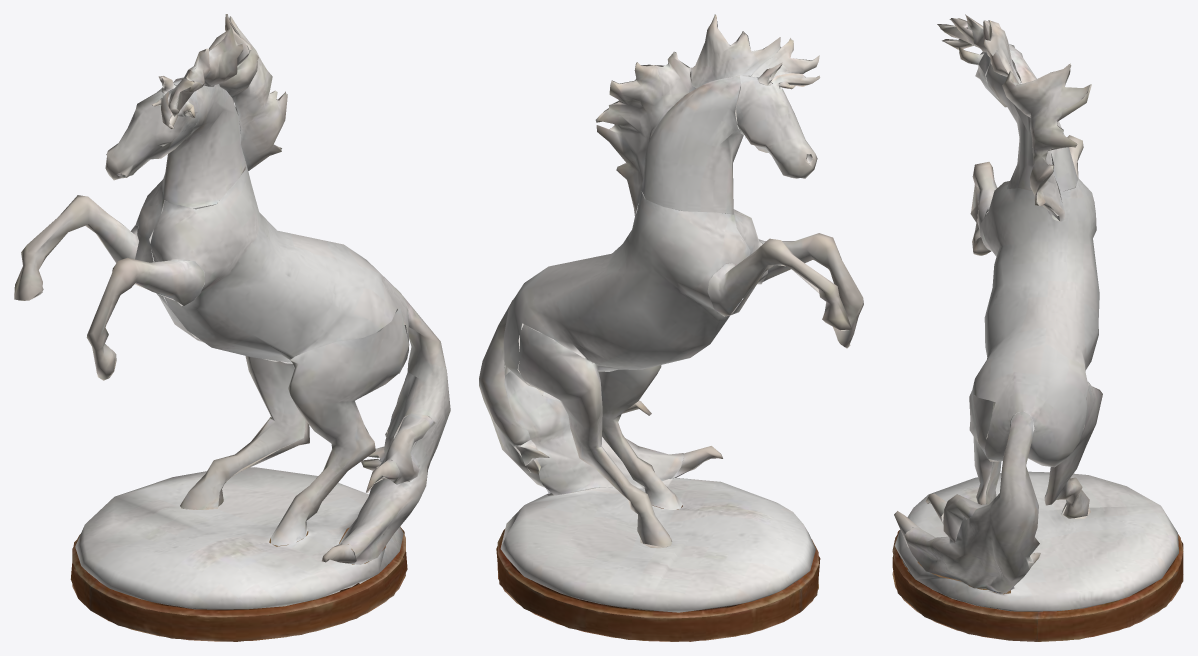
File: horse.glb
3 views of the same model, side by side, from view 1: azimuth 30°, elevation 25°; view 2: azimuth 150°, elevation 25°; view 3: azimuth 270°, elevation 25° (orthographic). The views are drawn at different scales.
Parts seen in each view (by area): view 1: horse_statue_01; view 2: horse_statue_01; view 3: horse_statue_01.
Part boxes in pixels (x1,y1,x2,y2): horse_statue_01: (14, 14, 450, 641); horse_statue_01: (479, 14, 863, 641); horse_statue_01: (892, 14, 1183, 641).
Size of the model in its own units: 0.3716 by 0.5 by 0.2449.
Materials: 2 (2 with a texture image).
